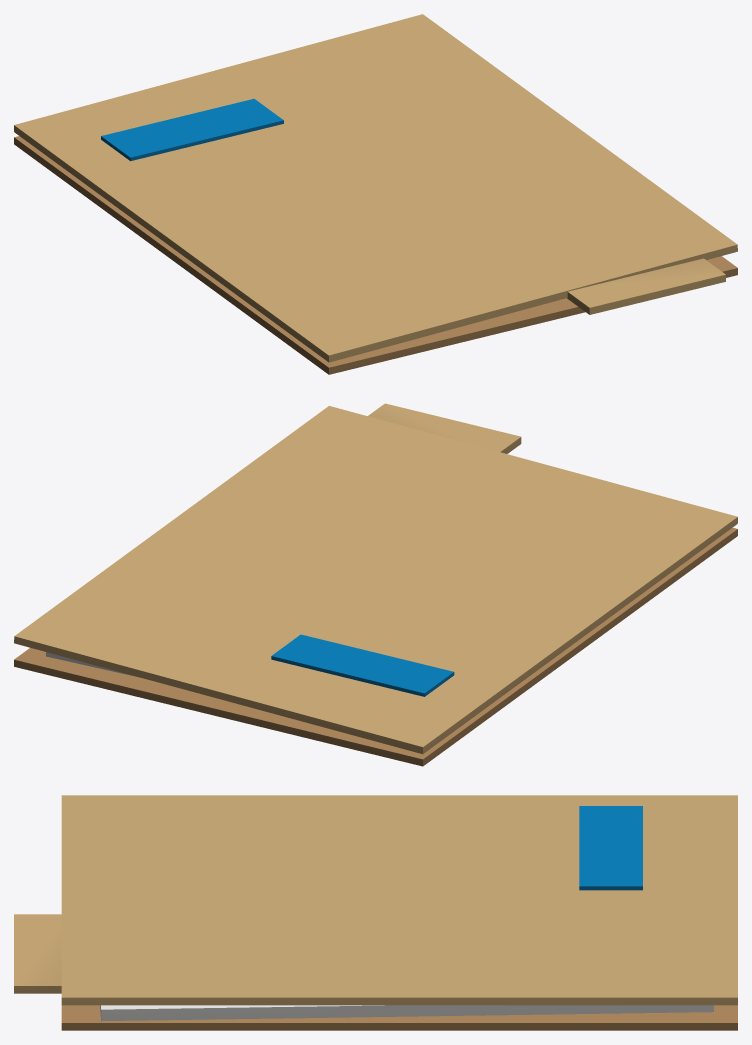
The model's file is folder_01.glb.
The picture shows the model from 3 angles, top to bottom: view 1: azimuth 30°, elevation 25°; view 2: azimuth 150°, elevation 25°; view 3: azimuth 270°, elevation 25°; orthographic projection. The views are drawn at different scales.
Parts seen in each view (by area): view 1: folder_01_mesh; view 2: folder_01_mesh; view 3: folder_01_mesh.
Boxes of the visible parts, x1,y1,x2,y2 form: folder_01_mesh: (14,14,737,374); folder_01_mesh: (14,403,737,766); folder_01_mesh: (14,795,737,1030).
Bounding box in the file's own units: 0.2401 × 0.0171 × 0.3425.
Materials: 1 (1 with a texture image).
